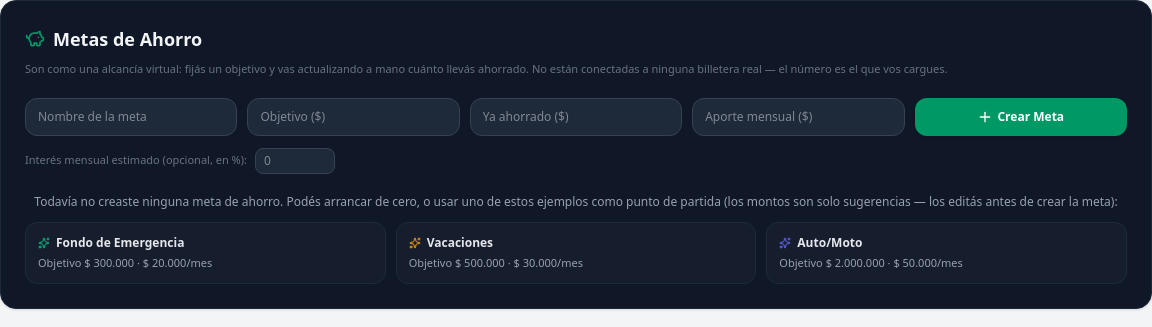
it: SavingsGoals — modo offline (Tanda 3) › crear una meta sin conexión la guarda en la cola y muestra el toast
The image size is (1152, 327).
Type "Vacaciones" into the field with placeholder "Nombre de la meta" at coordinates (131, 116), box [25, 98, 237, 136]
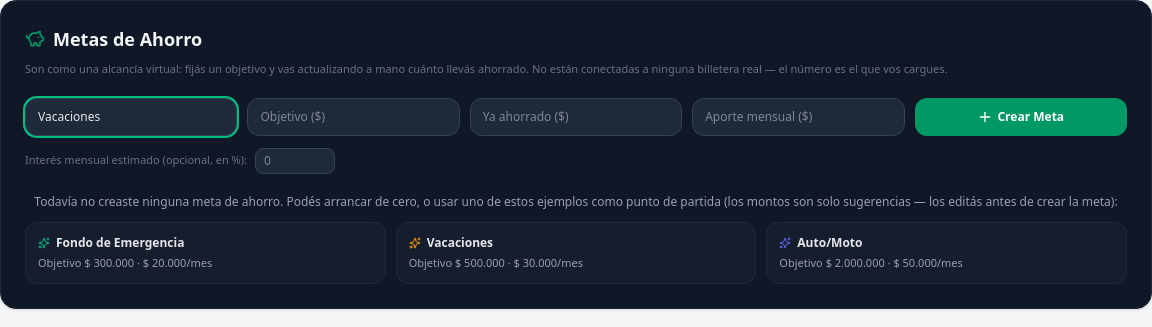
Type "100000" into the number field with placeholder "Objetivo ($)" at coordinates (354, 116), box [247, 98, 460, 136]
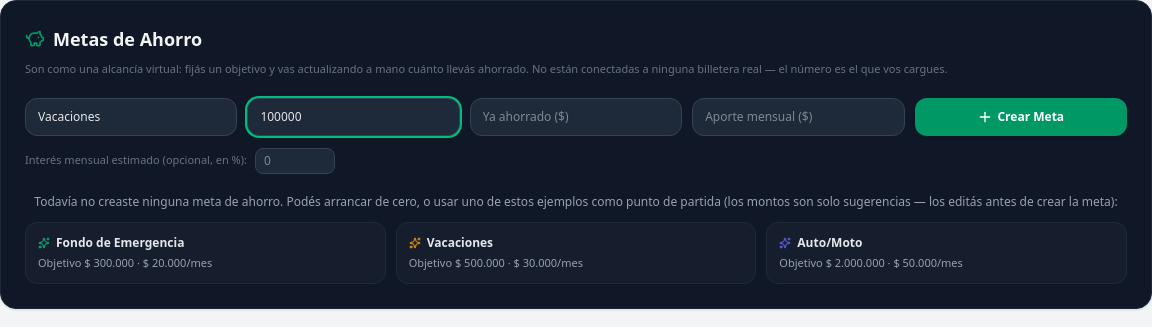
Click the button "Crear Meta" at coordinates (1021, 116), box [915, 98, 1127, 136]
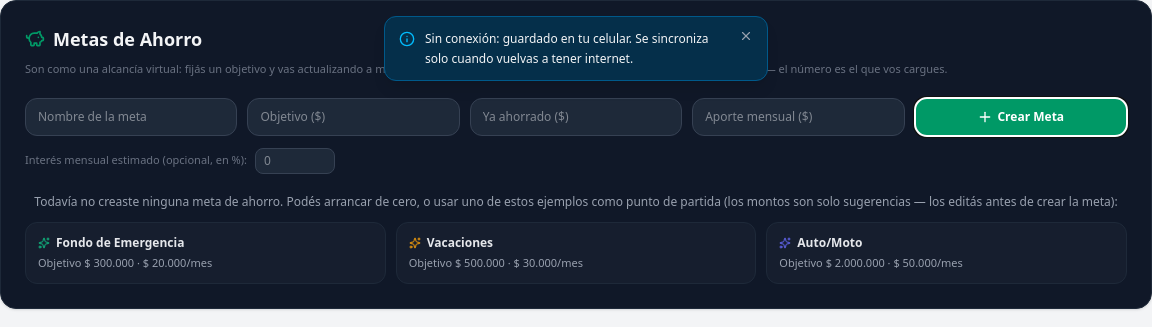
Check: the text "Sin conexión: guardado en tu celular" is shown, box [425, 30, 708, 66]
